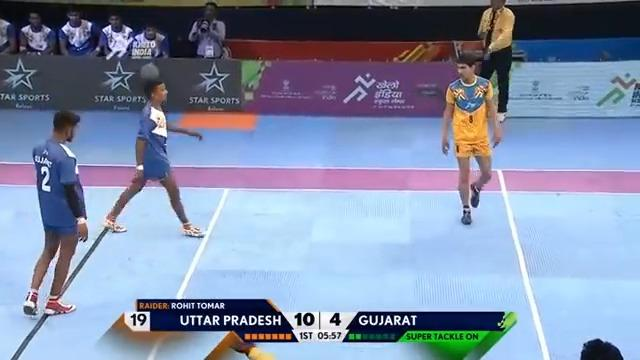Player: (102, 78, 205, 238), (22, 109, 88, 316)
Raider: (440, 50, 502, 224)
referee: (475, 0, 515, 123), (187, 1, 226, 58)
